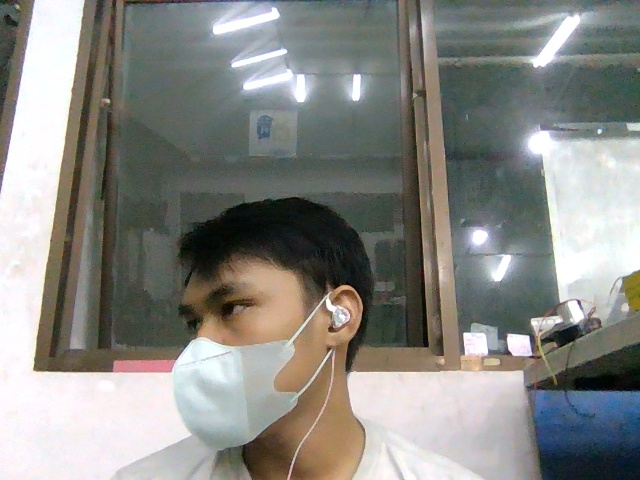mask_on: (171, 338, 316, 451)
